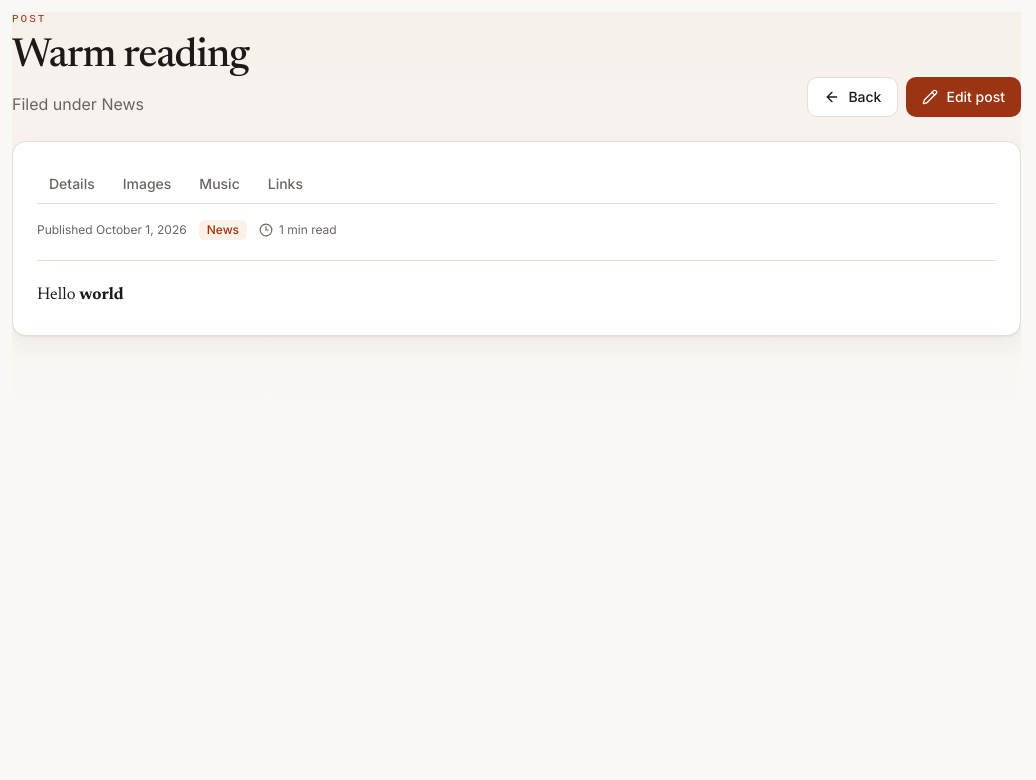
Test case: PostDetailsPage › rejects an empty title or content before saving
The width and height of the screenshot is (1036, 780).
expect the heading "Warm reading" is shown: met, box [12, 35, 249, 79]
Click the button "Edit post" at (964, 97), box [906, 77, 1021, 117]
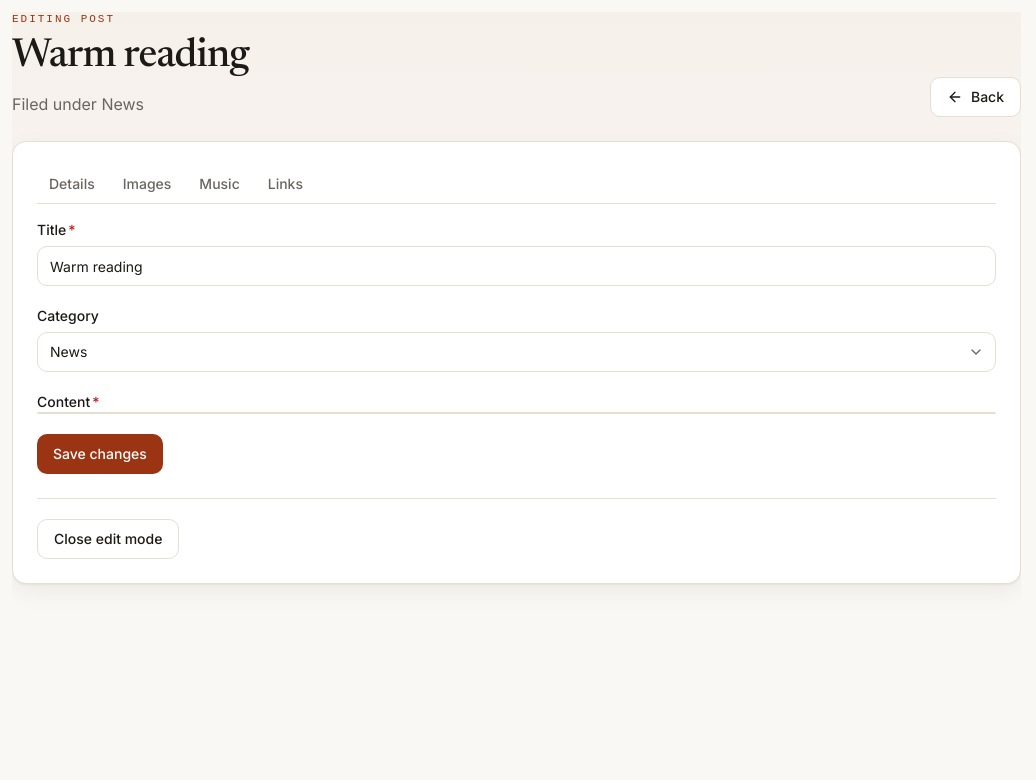
Clear the field labelled "Title*" at (516, 266), box [37, 246, 996, 286]
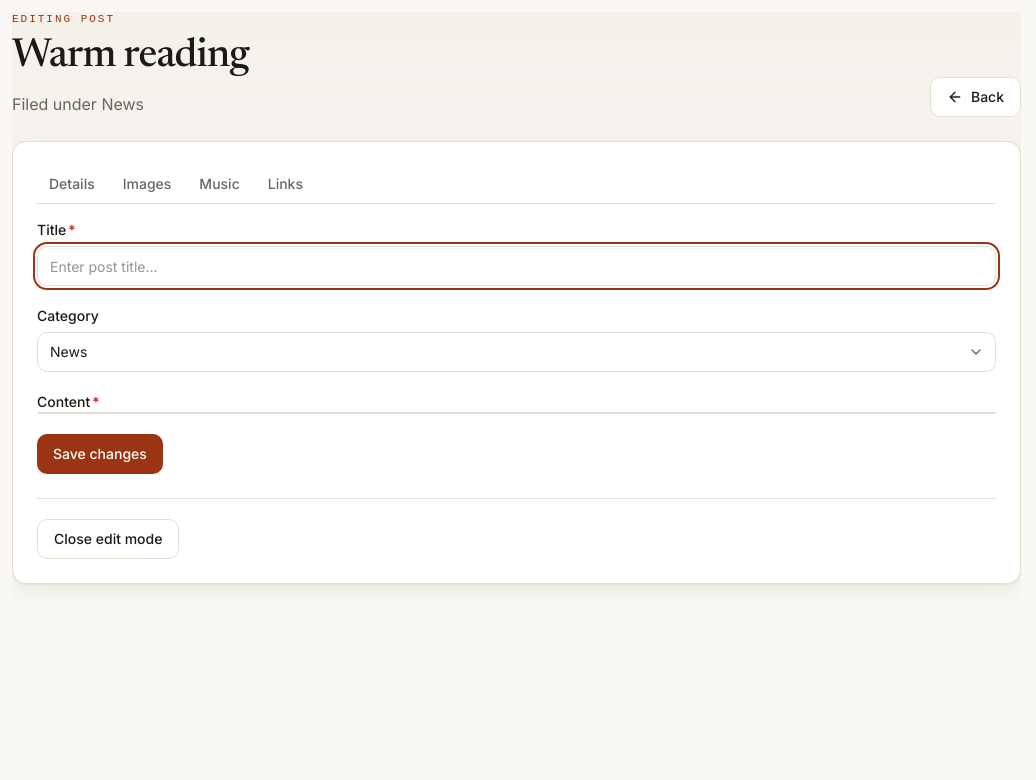
Click the button "Save changes" at (100, 454), box [37, 434, 163, 474]
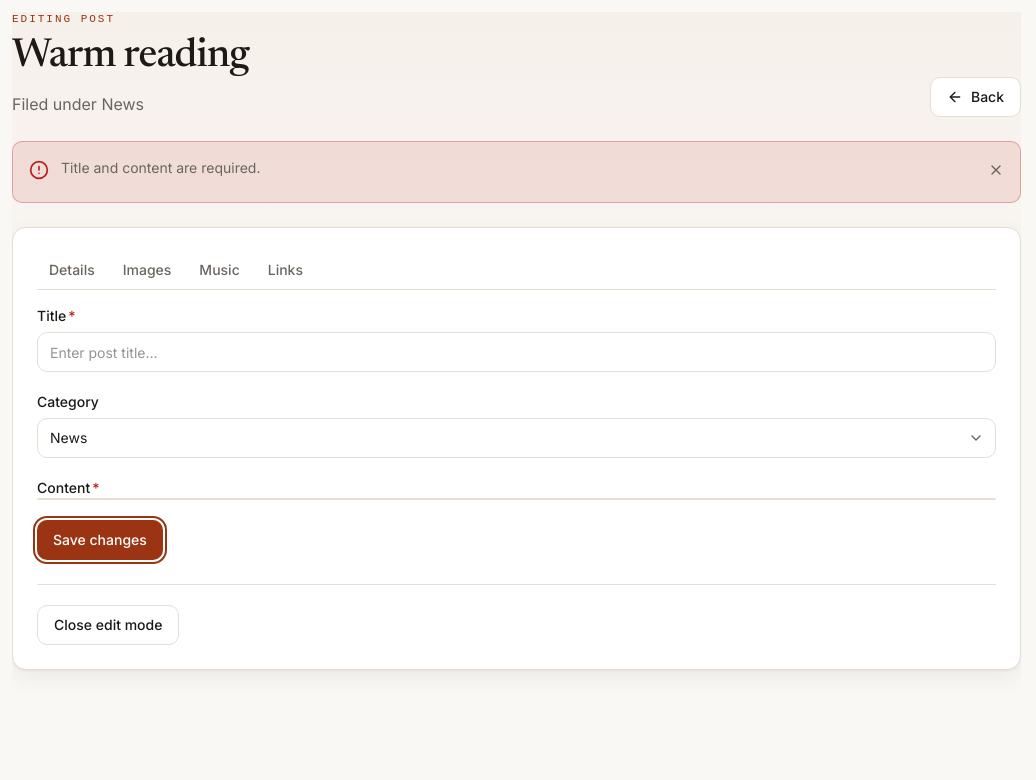
expect the message reads "Title and content are required.": met, box [61, 159, 260, 176]
